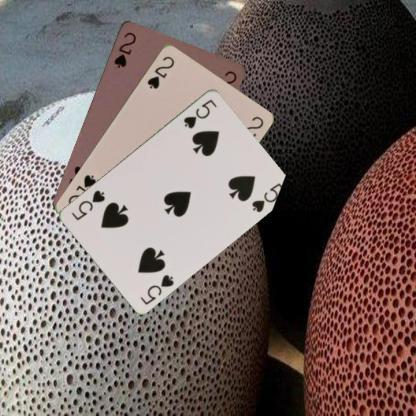2s: (145, 53, 176, 90), (111, 29, 137, 69)
5s: (138, 271, 176, 306), (181, 96, 218, 129)
